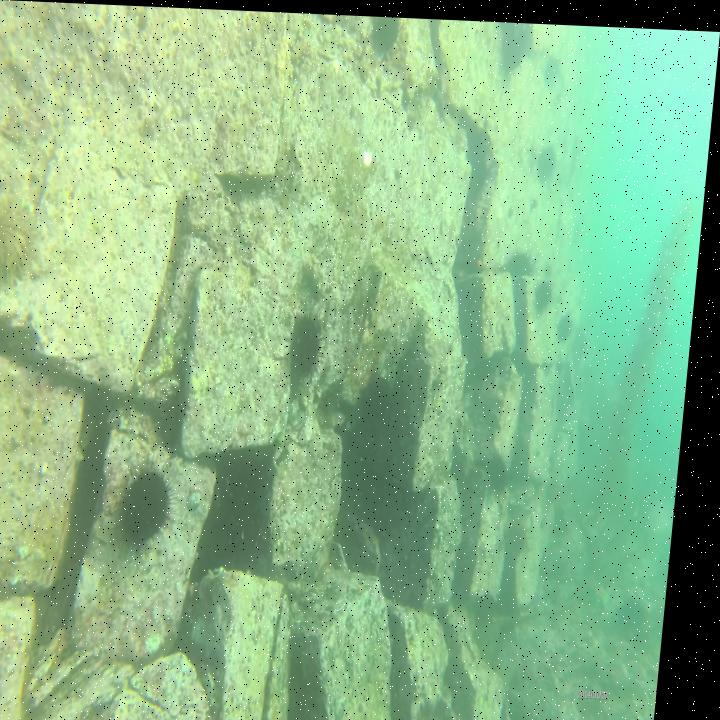echinus: (117, 446, 194, 568), (0, 192, 41, 303), (294, 300, 341, 382), (623, 585, 664, 640), (499, 18, 529, 71), (494, 439, 524, 491), (370, 13, 404, 54), (512, 515, 541, 560), (538, 140, 563, 182), (542, 45, 565, 90), (540, 269, 561, 310), (512, 245, 543, 272), (560, 301, 582, 338)
